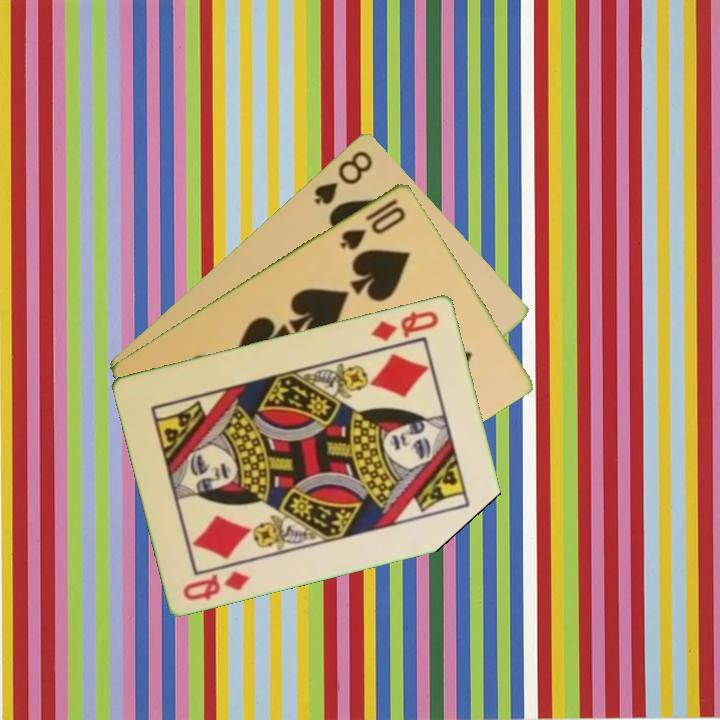10s: (336, 195, 409, 253)
8s: (310, 146, 376, 208)
Qd: (367, 306, 442, 344), (179, 566, 253, 603)
